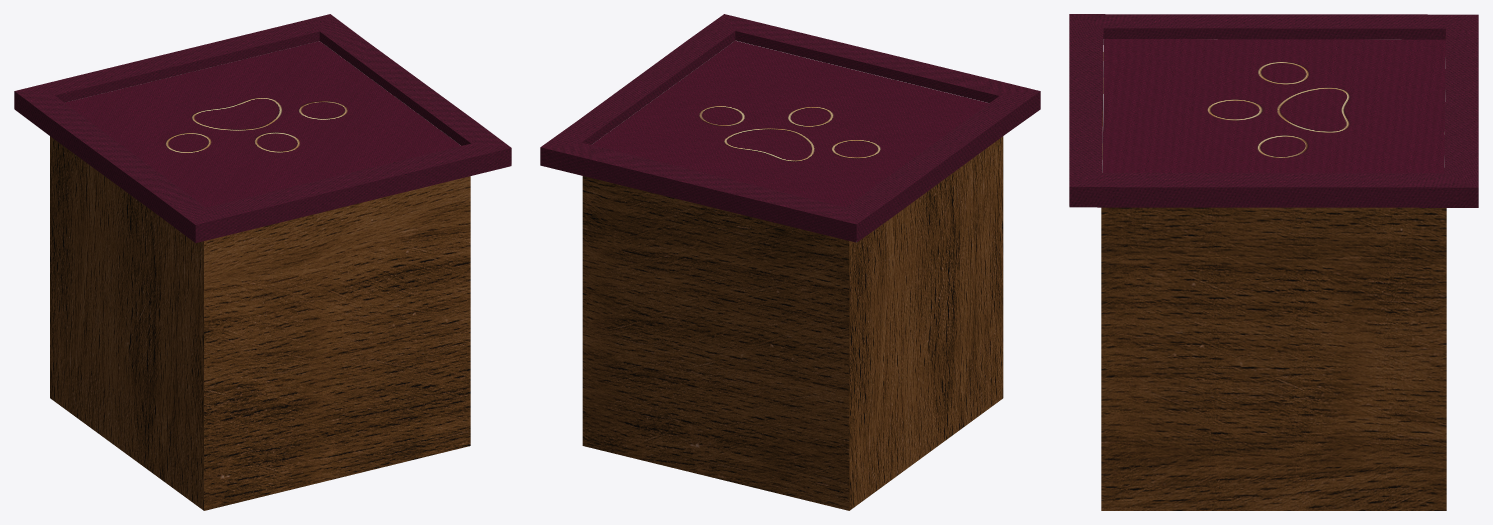
Rendered from CatJack-Table.fbx.
The picture shows the model from 3 angles, left to right: view 1: azimuth 30°, elevation 25°; view 2: azimuth 150°, elevation 25°; view 3: azimuth 270°, elevation 25°; orthographic projection. The views are drawn at different scales.
Visible parts, largest first — view 1: Cube, Sphere; view 2: Cube, Sphere; view 3: Cube, Sphere.
Part boxes in pixels (left/top/right/bottom): Cube: left=50, top=136, right=470, bottom=510; Sphere: left=14, top=14, right=511, bottom=243; Cube: left=582, top=136, right=1003, bottom=510; Sphere: left=540, top=14, right=1040, bottom=242; Cube: left=1101, top=52, right=1446, bottom=510; Sphere: left=1069, top=14, right=1478, bottom=207.
Size of the model in its own units: 253 by 230 by 252.
2 materials, 2 textured.
